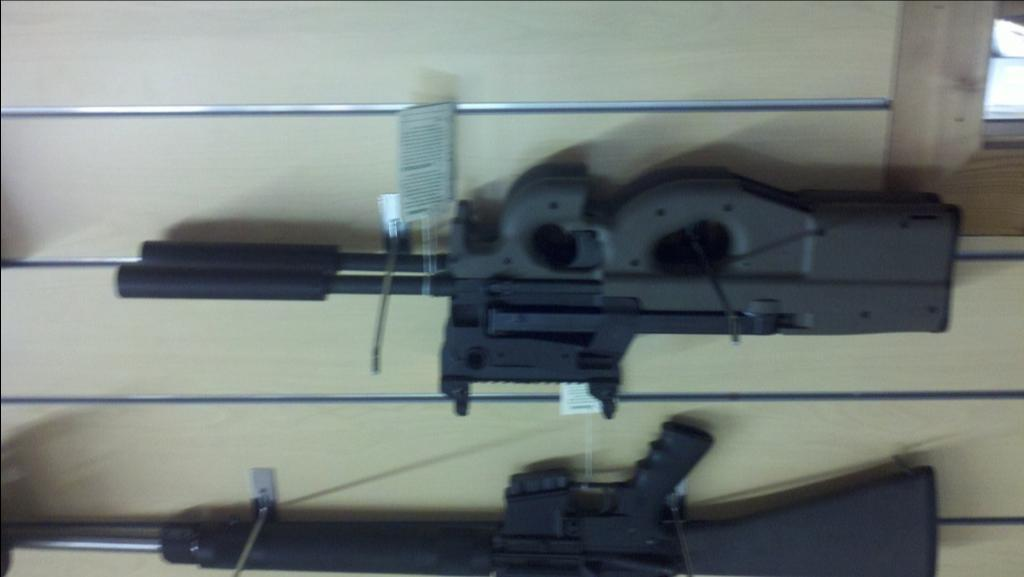gun: (114, 164, 960, 415), (0, 421, 941, 577)
